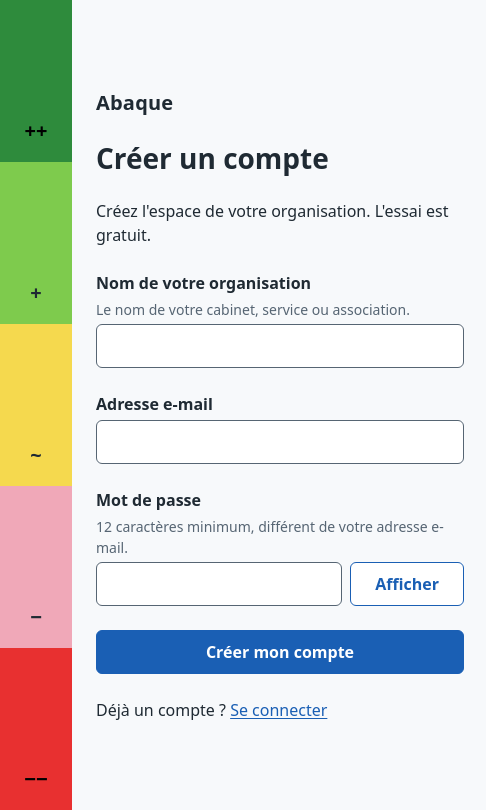
account pages › shows a neutral confirmation after signup
In the field labelled "Nom de votre organisation": (280, 346) x1=96 y1=324 x2=464 y2=368, type "Cabinet Delta"
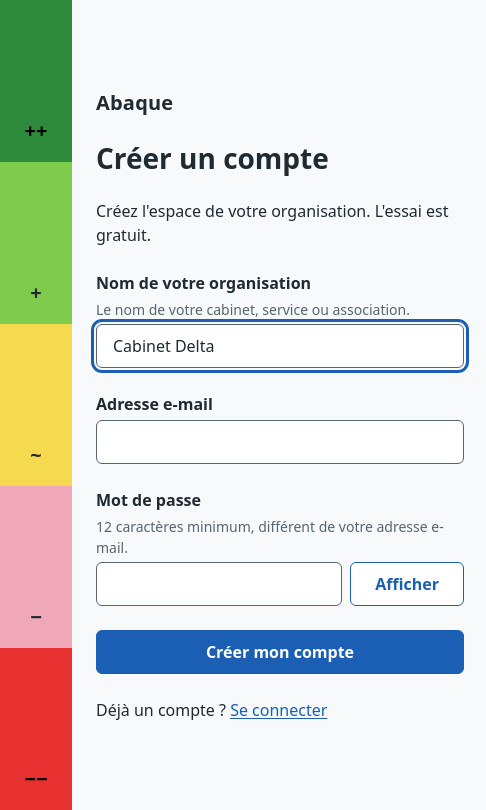
In the field labelled "Adresse e-mail": (280, 442) x1=96 y1=420 x2=464 y2=464, type "fred@example.com"
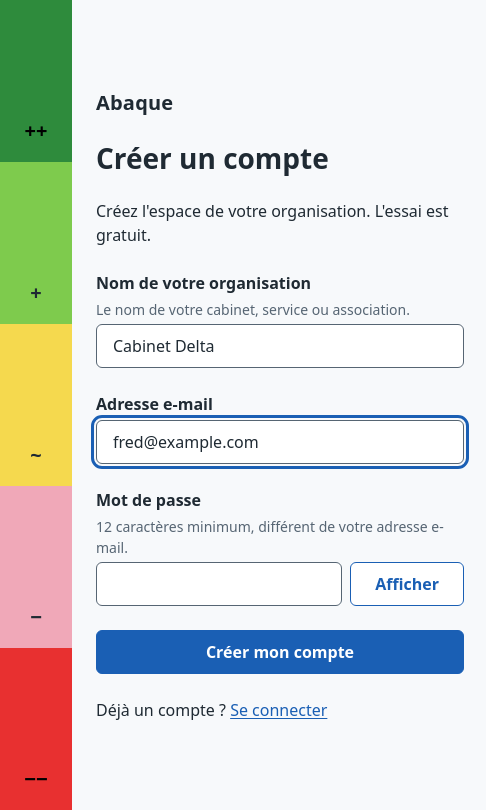
In the password field labelled "Mot de passe": (219, 584) x1=96 y1=562 x2=342 y2=606, type "Correct-Horse-42"
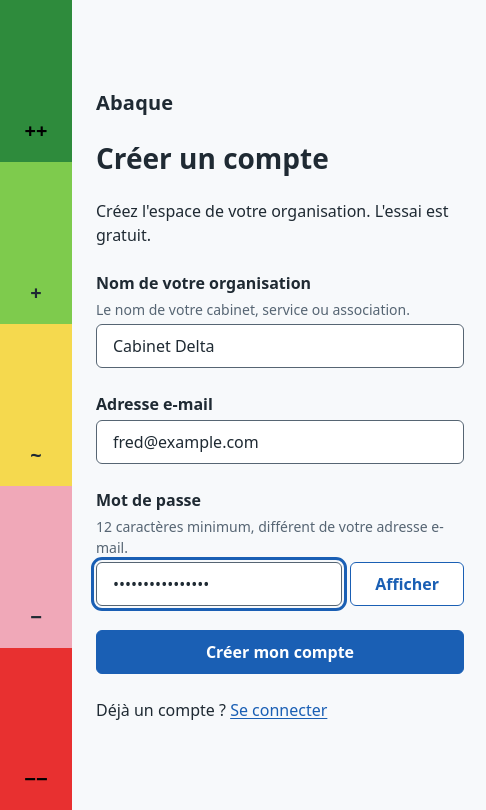
Click the button "Créer mon compte": (280, 652) x1=96 y1=630 x2=464 y2=674
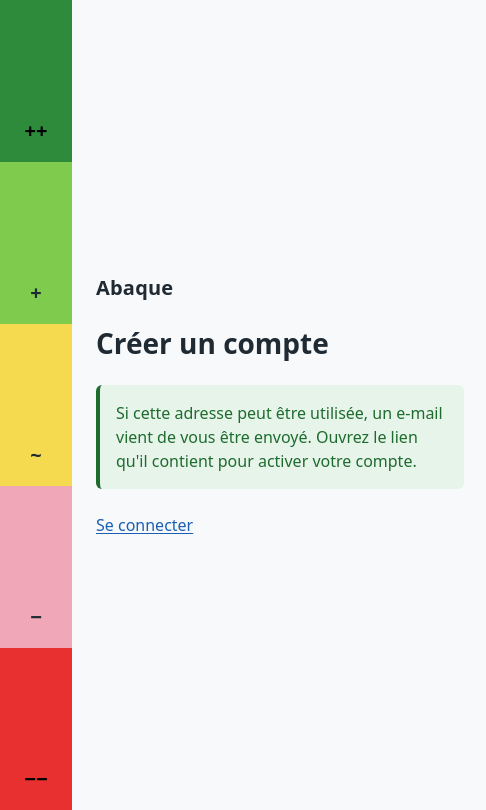
expect the message shows "Si cette adresse peut être utilisée": met, box x1=116 y1=402 x2=443 y2=472
